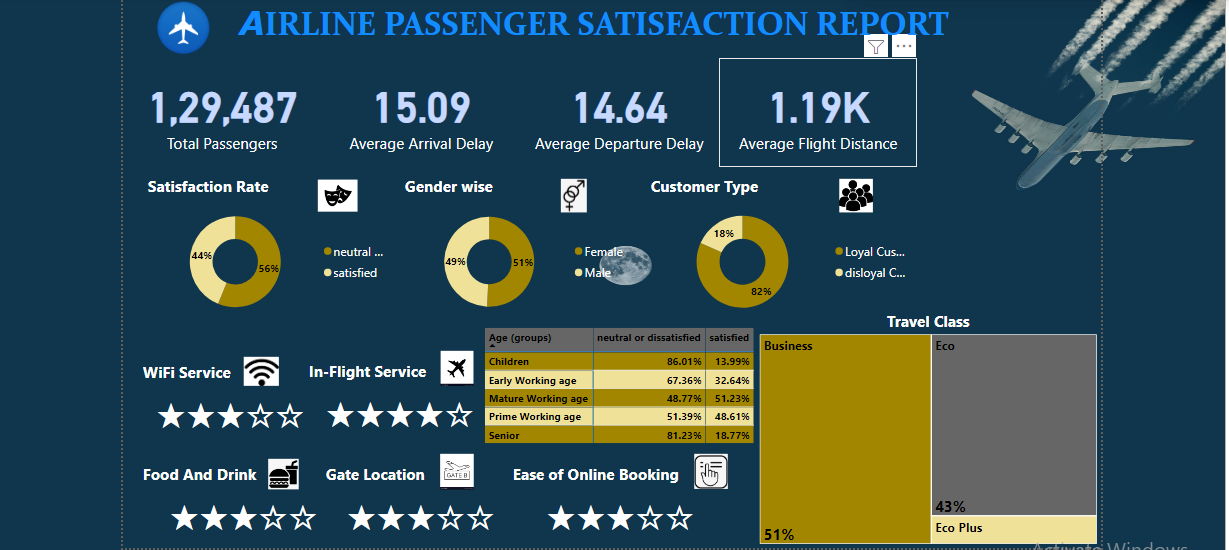

The dashboard page shown, as its layout file describes it:
{"tool":"powerbi","page":{"name":"Page 1","canvas":[1280,720],"ordinal":0},"visuals":[{"type":"card","fields":{"Values":["Avg(airlinePassengerSatisfactionTT.Arrival Delay in Minutes)"]},"box":[259.9,78.1,259.9,142.7],"z":0},{"type":"card","fields":{"Values":["Avg(airlinePassengerSatisfactionTT.Departure Delay in Minutes)"]},"box":[519.8,78.1,259.9,142.7],"z":1000},{"type":"card","fields":{"Values":["Avg(airlinePassengerSatisfactionTT.Flight Distance)"]},"box":[779.7,78.1,259.9,142.7],"z":2000},{"type":"donutChart","title":"Gender wise","fields":{"Category":["airlinePassengerSatisfactionTT.Gender"],"Y":["Sum(airlinePassengerSatisfactionTT.id)"]},"box":[363.6,231.4,305,199.8],"z":3000},{"type":"donutChart","title":"Satisfaction Rate","fields":{"Category":["airlinePassengerSatisfactionTT.satisfaction"],"Y":["Sum(airlinePassengerSatisfactionTT.id)"]},"box":[27,231.4,336.5,199.8],"z":4000},{"type":"donutChart","title":"Customer Type","fields":{"Category":["airlinePassengerSatisfactionTT.Customer Type"],"Y":["Sum(airlinePassengerSatisfactionTT.id)"]},"box":[686.6,231.4,353.1,199.8],"z":5000},{"type":"textbox","box":[103.7,0,1026.1,78.1],"z":6000},{"type":"card","fields":{"Values":["CountNonNull(airlinePassengerSatisfactionTT.id)"]},"box":[0,78.1,259.9,142.7],"z":8000},{"type":"card","title":"WiFi Service","fields":{"Values":["airlinePassengerSatisfactionTT.Wifi"]},"box":[21,474.7,238.9,109.7],"z":9000},{"type":"card","title":"In-Flight Service","fields":{"Values":["airlinePassengerSatisfactionTT.inflight"]},"box":[238.9,473.2,247.9,111.2],"z":10000},{"type":"card","title":"Food And Drink","fields":{"Values":["airlinePassengerSatisfactionTT.fooddrink"]},"box":[21,608.5,273.4,109.7],"z":11000},{"type":"card","title":"Gate Location","fields":{"Values":["airlinePassengerSatisfactionTT.GateLocation"]},"box":[259.9,608.5,258.4,111.2],"z":12000},{"type":"card","title":"Ease of Online Booking","fields":{"Values":["airlinePassengerSatisfactionTT.Ease"]},"box":[504.8,608.5,291.5,109.7],"z":13000},{"type":"treemap","title":"Travel Class","fields":{"Group":["airlinePassengerSatisfactionTT.Class"],"Values":["Sum(airlinePassengerSatisfactionTT.id)"]},"box":[829.3,408.6,450.7,311],"z":14000},{"type":"pivotTable","fields":{"Rows":["airlinePassengerSatisfactionTT.Age (groups)"],"Columns":["airlinePassengerSatisfactionTT.satisfaction"],"Values":["Min(airlinePassengerSatisfactionTT.satisfaction)"]},"box":[468.7,426.7,377.1,171.3],"z":15000},{"type":"image","box":[249.4,231.4,61.6,54.1],"z":15001},{"type":"image","box":[530.3,231.4,120.2,54.1],"z":15002},{"type":"image","box":[845.8,231.4,226.9,54.1],"z":15003},{"type":"image","box":[123.2,464.2,115.7,48.1],"z":15005},{"type":"image","box":[317,456.7,240.4,55.6],"z":15006},{"type":"image","box":[123.2,597.9,172.8,49.6],"z":15007},{"type":"image","box":[369.6,591.9,135.2,57.1],"z":15008},{"type":"image","box":[731.6,591.9,75.1,55.6],"z":15009},{"type":"image","box":[0,0,157.7,78.1],"z":15010}]}

Visuals, with their boxes on the page's 1280x720 design canvas (x1, y1, x2, y2). These are canvas units, not pixel positions in the 1229x550 screenshot, which may show the page scaled, cropped or inside an application window:
card - Avg(airlinePassengerSatisfactionTT.Arrival Delay in Minutes): pyautogui.locateOnScreen(260, 78, 520, 221)
card - Avg(airlinePassengerSatisfactionTT.Departure Delay in Minutes): pyautogui.locateOnScreen(520, 78, 780, 221)
card - Avg(airlinePassengerSatisfactionTT.Flight Distance): pyautogui.locateOnScreen(780, 78, 1040, 221)
"Gender wise" donutChart: pyautogui.locateOnScreen(364, 231, 669, 431)
"Satisfaction Rate" donutChart: pyautogui.locateOnScreen(27, 231, 364, 431)
"Customer Type" donutChart: pyautogui.locateOnScreen(687, 231, 1040, 431)
textbox: pyautogui.locateOnScreen(104, 0, 1130, 78)
card - CountNonNull(airlinePassengerSatisfactionTT.id): pyautogui.locateOnScreen(0, 78, 260, 221)
"WiFi Service" card: pyautogui.locateOnScreen(21, 475, 260, 584)
"In-Flight Service" card: pyautogui.locateOnScreen(239, 473, 487, 584)
"Food And Drink" card: pyautogui.locateOnScreen(21, 608, 294, 718)
"Gate Location" card: pyautogui.locateOnScreen(260, 608, 518, 720)
"Ease of Online Booking" card: pyautogui.locateOnScreen(505, 608, 796, 718)
"Travel Class" treemap: pyautogui.locateOnScreen(829, 409, 1280, 720)
pivotTable - airlinePassengerSatisfactionTT.Age (groups) x airlinePassengerSatisfactionTT.satisfaction: pyautogui.locateOnScreen(469, 427, 846, 598)
image: pyautogui.locateOnScreen(249, 231, 311, 286)
image: pyautogui.locateOnScreen(530, 231, 650, 286)
image: pyautogui.locateOnScreen(846, 231, 1073, 286)
image: pyautogui.locateOnScreen(123, 464, 239, 512)
image: pyautogui.locateOnScreen(317, 457, 557, 512)
image: pyautogui.locateOnScreen(123, 598, 296, 648)
image: pyautogui.locateOnScreen(370, 592, 505, 649)
image: pyautogui.locateOnScreen(732, 592, 807, 648)
image: pyautogui.locateOnScreen(0, 0, 158, 78)
